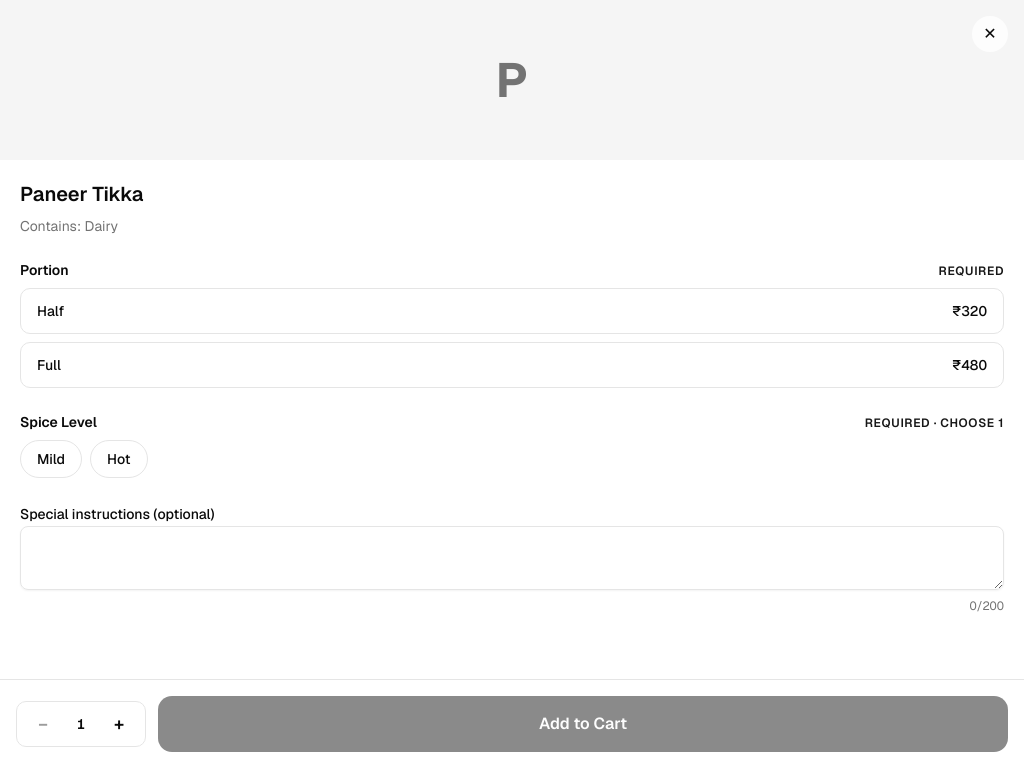
Test: ItemDetailView › gates add-to-cart on a required variant and modifier group being satisfied
The image size is (1024, 768).
Expected: the button with test id "qr-add-to-cart" is disabled, [158,696,1008,752]
Click the button with test id "qr-variant-v-half". click: coordinates (969, 311)
box: [20,288,1004,334]
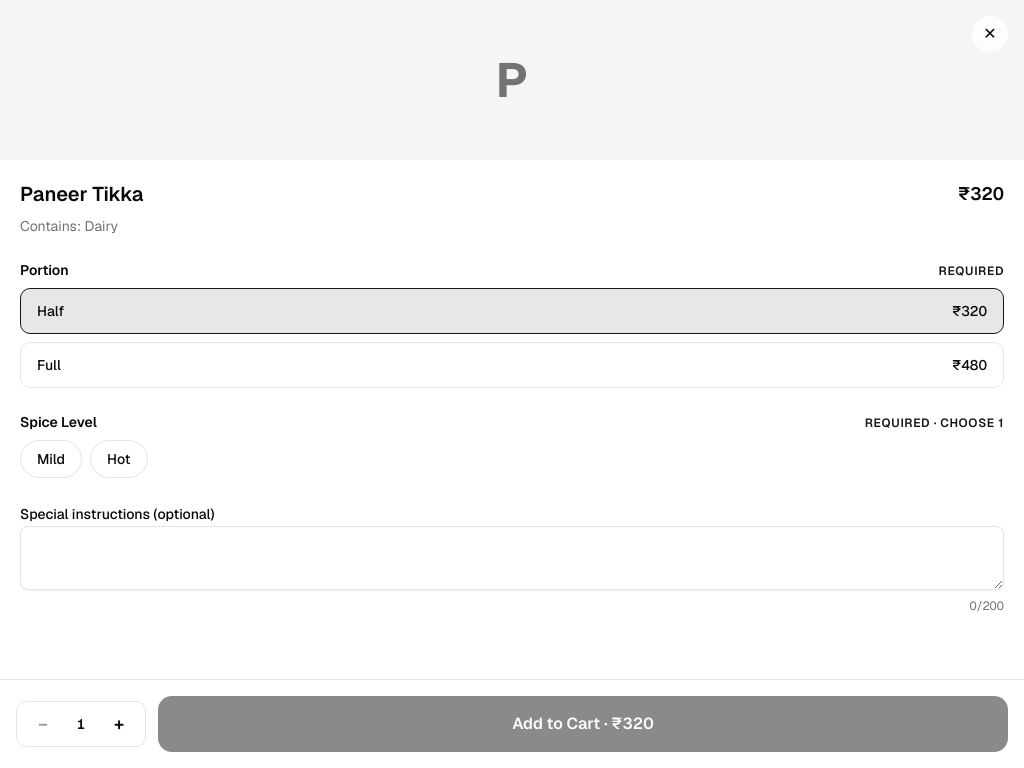
Expected: the button with test id "qr-add-to-cart" is disabled, [158,696,1008,752]
Click the button with test id "qr-modifier-m-mild". click: coordinates (51, 459)
box: [20,440,82,478]
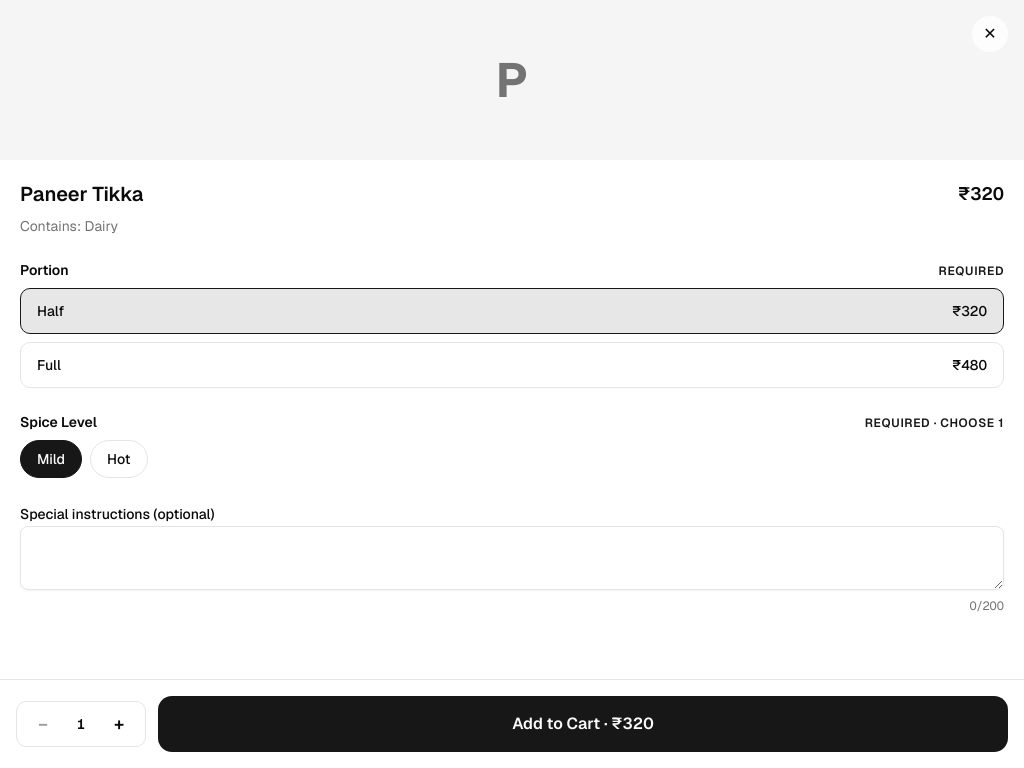
Expected: the button with test id "qr-add-to-cart" is enabled, [158,696,1008,752]
